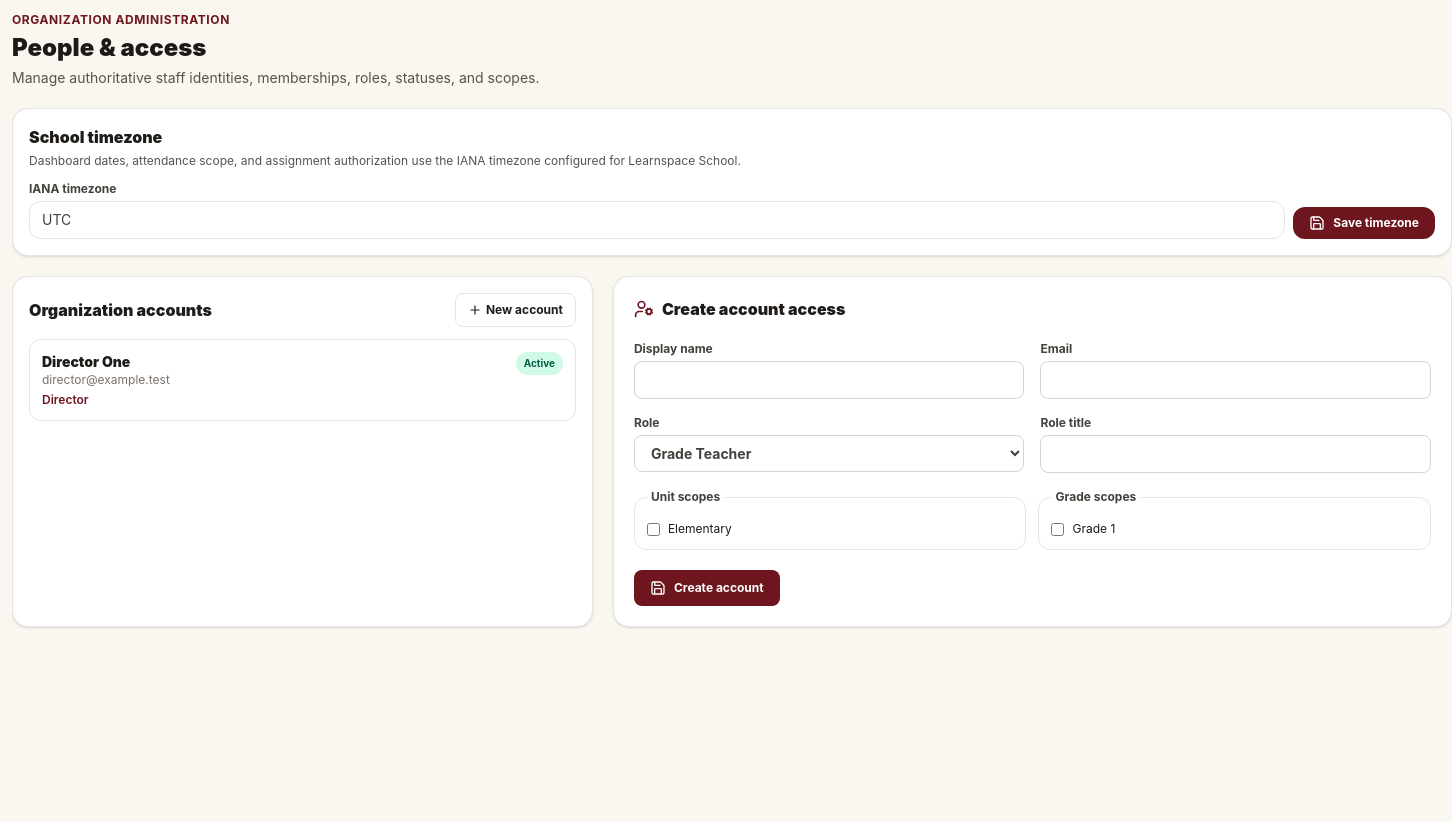
Scenario: PeopleAccessView › updates the validated organization timezone
The width and height of the screenshot is (1452, 822).
Replace the text in the field labelled "IANA timezone" with "America/Los_Angeles": x=657, y=220 [29, 201, 1285, 239]
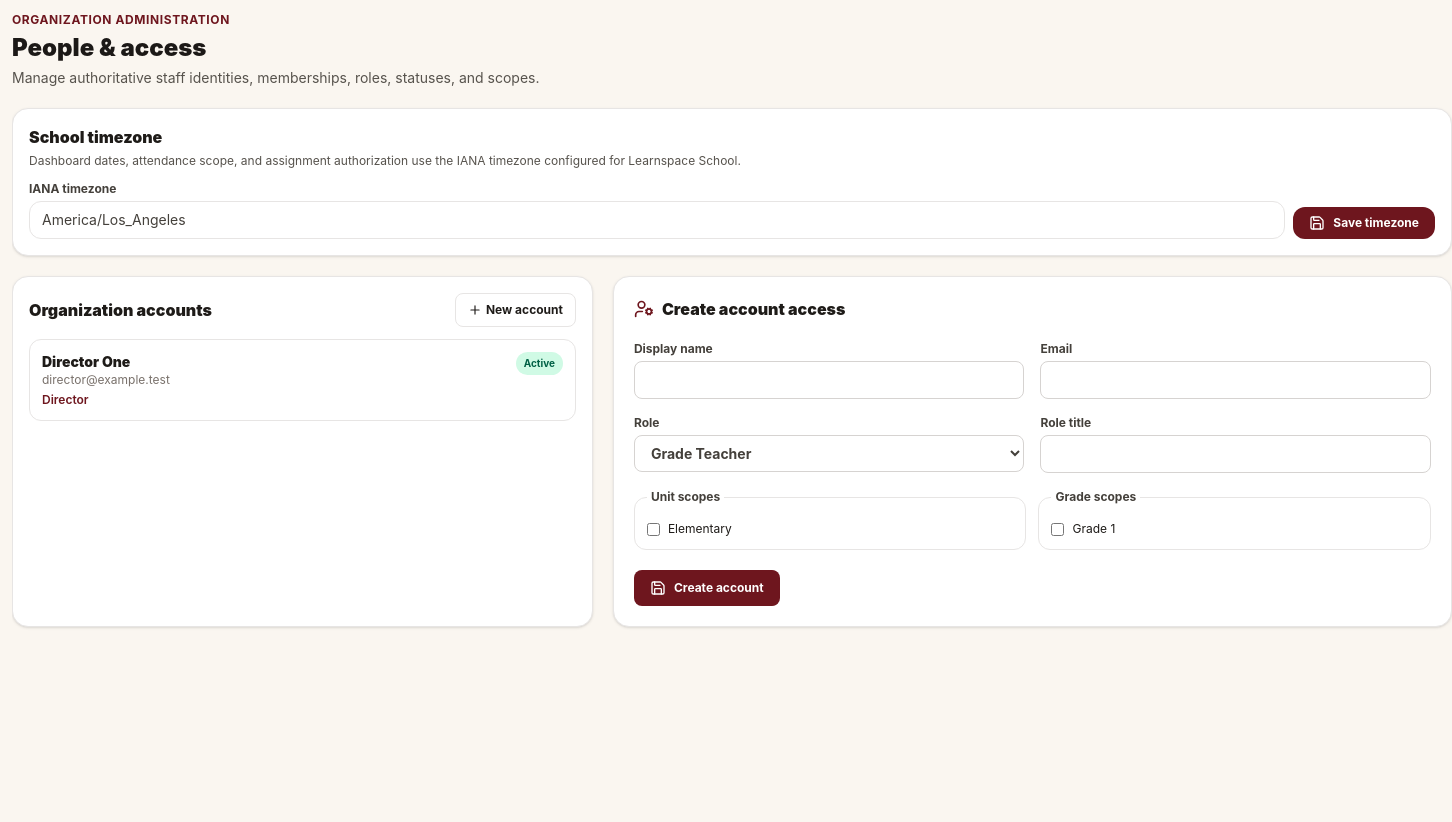
Click the button "Save timezone": x=1364, y=223 [1293, 207, 1435, 239]
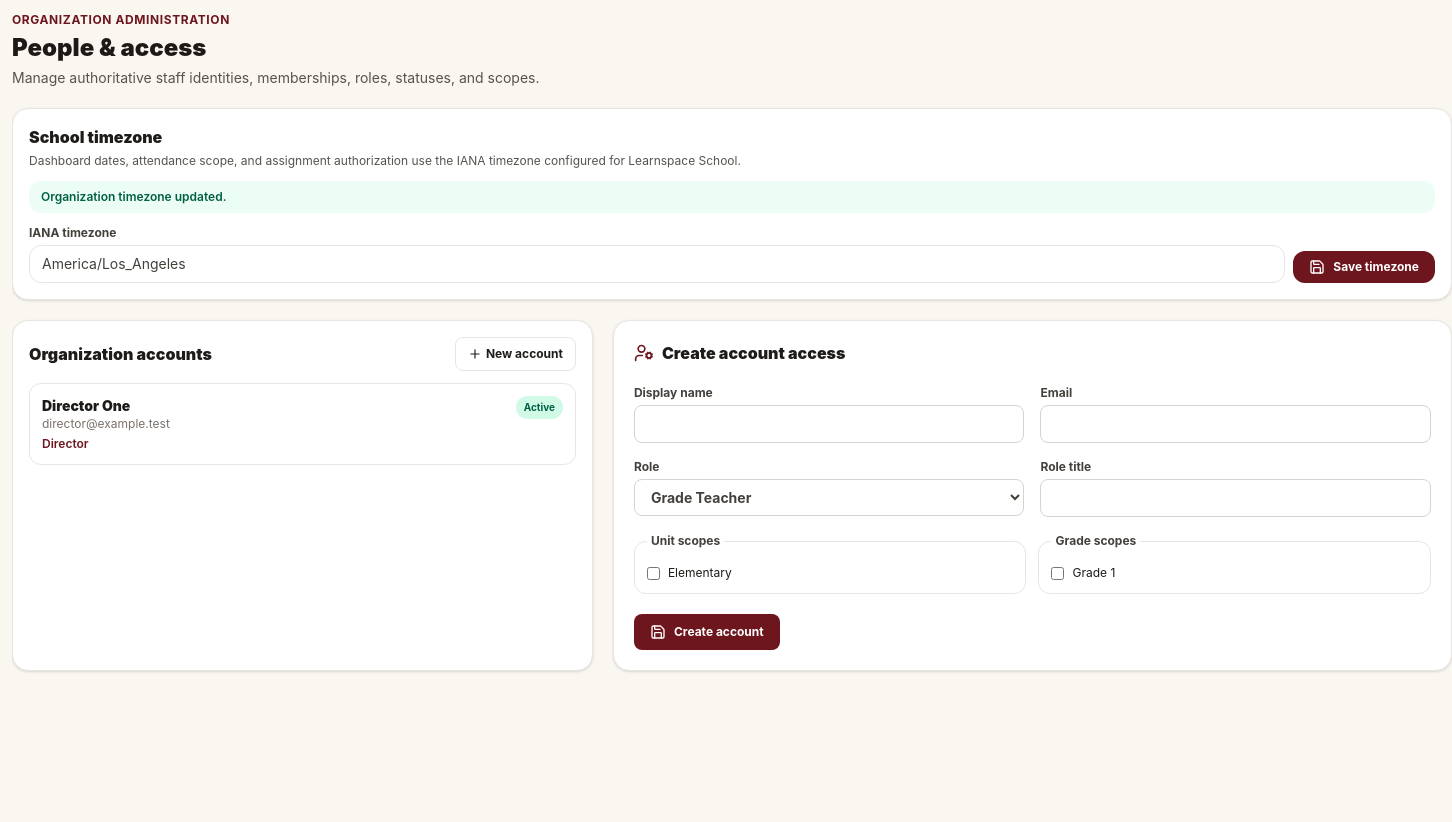
Check: the text "Organization timezone updated." is shown, box [29, 181, 1435, 213]
